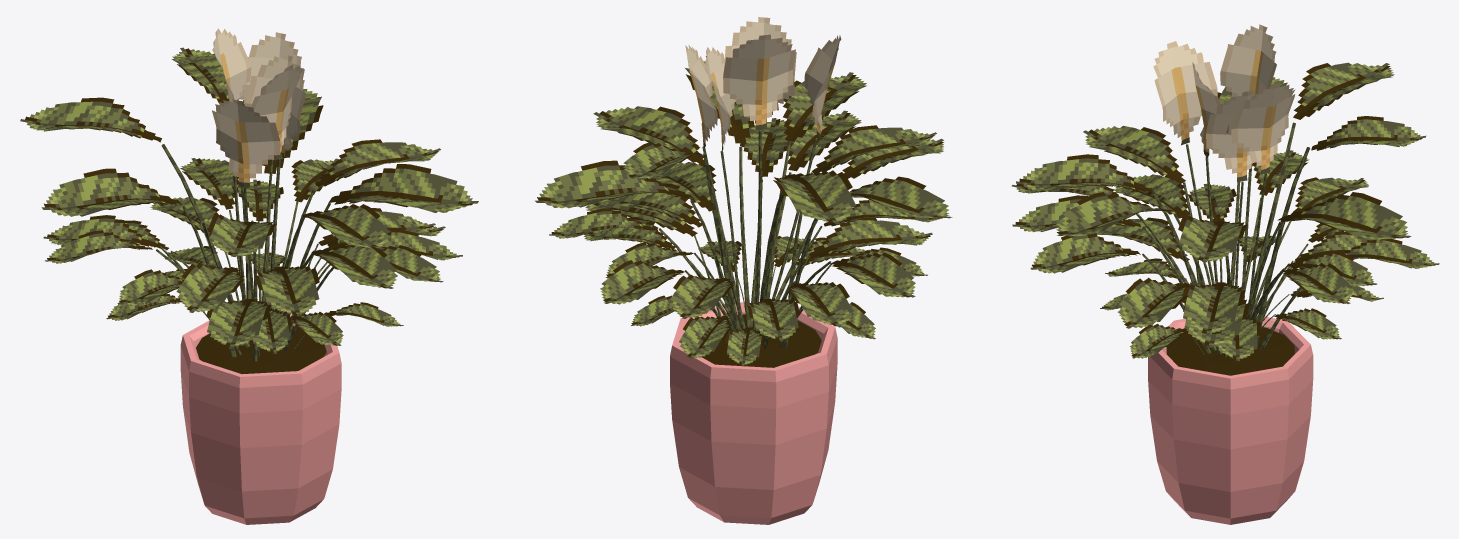
File: plant_peace_lily.gltf
3 renders of one model, left to right at view 1: azimuth 30°, elevation 25°; view 2: azimuth 150°, elevation 25°; view 3: azimuth 270°, elevation 25°, orthographic. The views are drawn at different scales.
Parts seen in each view (by area): view 1: Pot, Leaf_006, Spathe_04, Leaf_031, Soil, Leaf_028, Leaf_010, Leaf_029, Leaf_000, Leaf_016, Leaf_025, Leaf_024 (+23 smaller); view 2: Pot, Spathe_02, Leaf_021, Leaf_010, Leaf_028, Leaf_025, Leaf_031, Leaf_011, Leaf_000, Leaf_013, Soil, Leaf_007 (+31 smaller); view 3: Pot, Spathe_04, Spathe_00, Leaf_021, Soil, Spathe_02, Leaf_000, Leaf_011, Leaf_028, Leaf_006, Leaf_001, Leaf_022 (+23 smaller).
Boxes of the visible parts, x1,y1,x2,y2 form: Pot: (180, 310, 341, 524); Leaf_006: (328, 164, 478, 212); Spathe_04: (212, 99, 280, 188); Leaf_031: (41, 168, 181, 216); Soil: (196, 326, 326, 374); Leaf_028: (20, 97, 161, 142); Leaf_010: (315, 139, 440, 186); Leaf_029: (254, 266, 319, 316); Leaf_000: (301, 204, 390, 249); Leaf_016: (176, 263, 244, 312); Leaf_025: (206, 298, 270, 348); Leaf_024: (311, 245, 397, 288); Pot: (670, 302, 837, 524); Spathe_02: (723, 34, 795, 130); Leaf_021: (535, 160, 693, 208); Leaf_010: (593, 106, 704, 166); Leaf_028: (773, 170, 856, 224); Leaf_025: (808, 217, 932, 257); Leaf_031: (849, 176, 952, 218); Leaf_011: (812, 125, 936, 173); Leaf_000: (783, 72, 866, 141); Leaf_013: (831, 252, 915, 297); Soil: (701, 314, 821, 367); Leaf_007: (600, 260, 684, 304); Pot: (1148, 315, 1313, 524); Spathe_04: (1153, 41, 1217, 145); Spathe_00: (1231, 83, 1295, 174); Leaf_021: (1277, 192, 1411, 240); Soil: (1166, 327, 1294, 375); Spathe_02: (1220, 24, 1276, 96); Leaf_000: (1016, 154, 1152, 192); Leaf_011: (1083, 125, 1185, 183); Leaf_028: (1293, 62, 1394, 119); Leaf_006: (1056, 192, 1176, 237); Leaf_001: (1182, 282, 1245, 335); Leaf_022: (1030, 233, 1140, 273).
Bounding box in the file's own units: 3.96 × 4.57 × 3.97.
6 materials, 6 textured.
